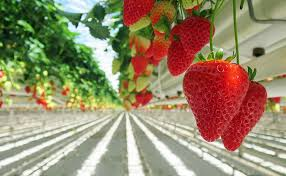ripe: (179, 57, 251, 142), (219, 66, 268, 154), (178, 13, 215, 55), (162, 33, 194, 75), (120, 2, 144, 25), (151, 32, 161, 66), (132, 55, 147, 75)
unripe: (150, 4, 175, 35), (127, 12, 152, 38), (136, 88, 152, 109), (134, 78, 149, 93)
